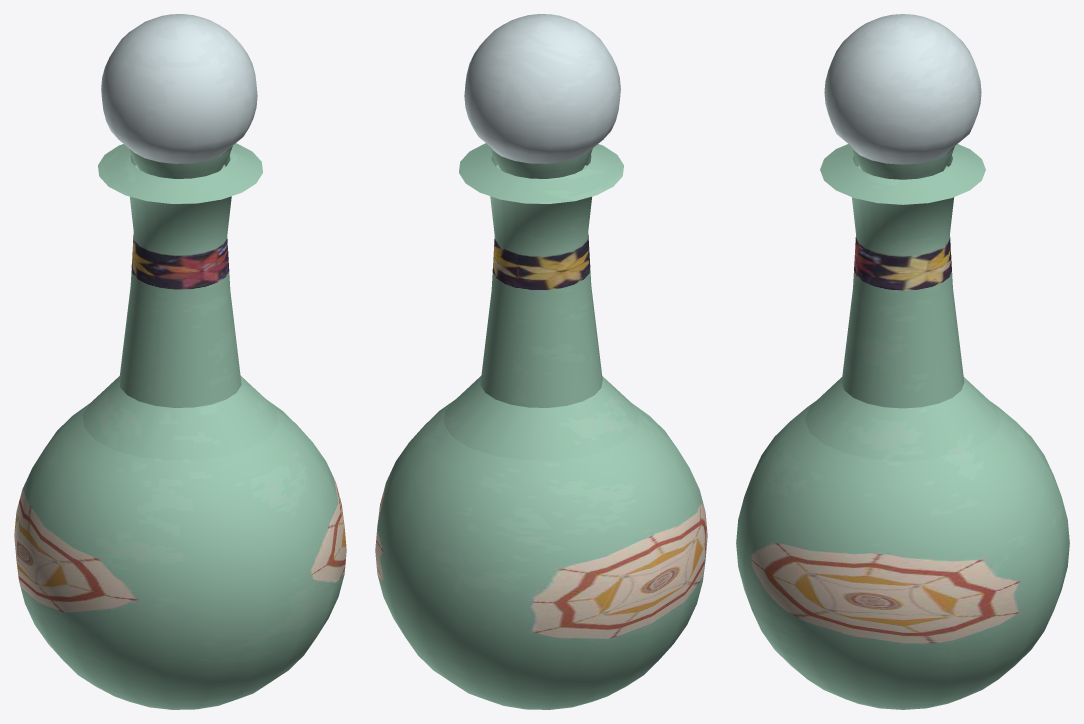
Rendered from Kooze3.fbx.
3 views of the same model, side by side, from view 1: azimuth 30°, elevation 25°; view 2: azimuth 150°, elevation 25°; view 3: azimuth 270°, elevation 25° (orthographic).
Parts seen in each view (by area): view 1: Kooze2; view 2: Kooze2; view 3: Kooze2.
Part boxes in pixels (x1,y1,x2,y2): Kooze2: (14, 14, 346, 709); Kooze2: (375, 14, 707, 709); Kooze2: (736, 14, 1069, 709).
Bounding box in the file's own units: 8.38 × 18.43 × 8.38.
